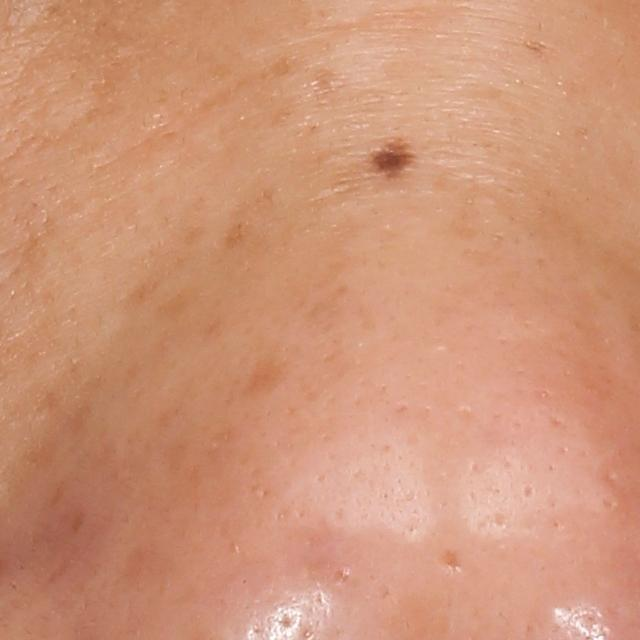atrophic_scar: (436, 548, 466, 572)
nevus: (365, 130, 413, 180)
